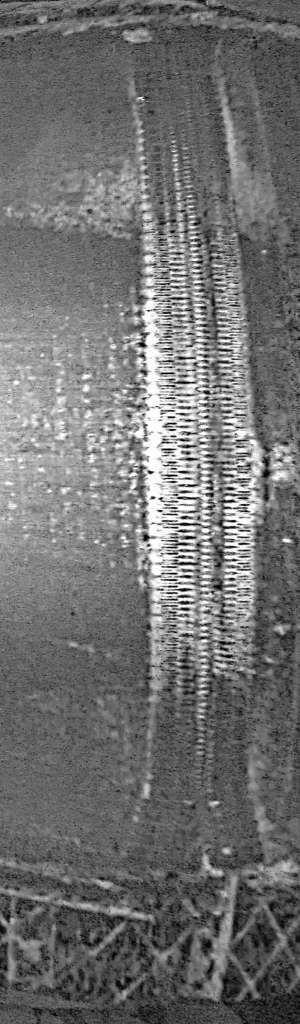splice: (129, 20, 272, 886)
